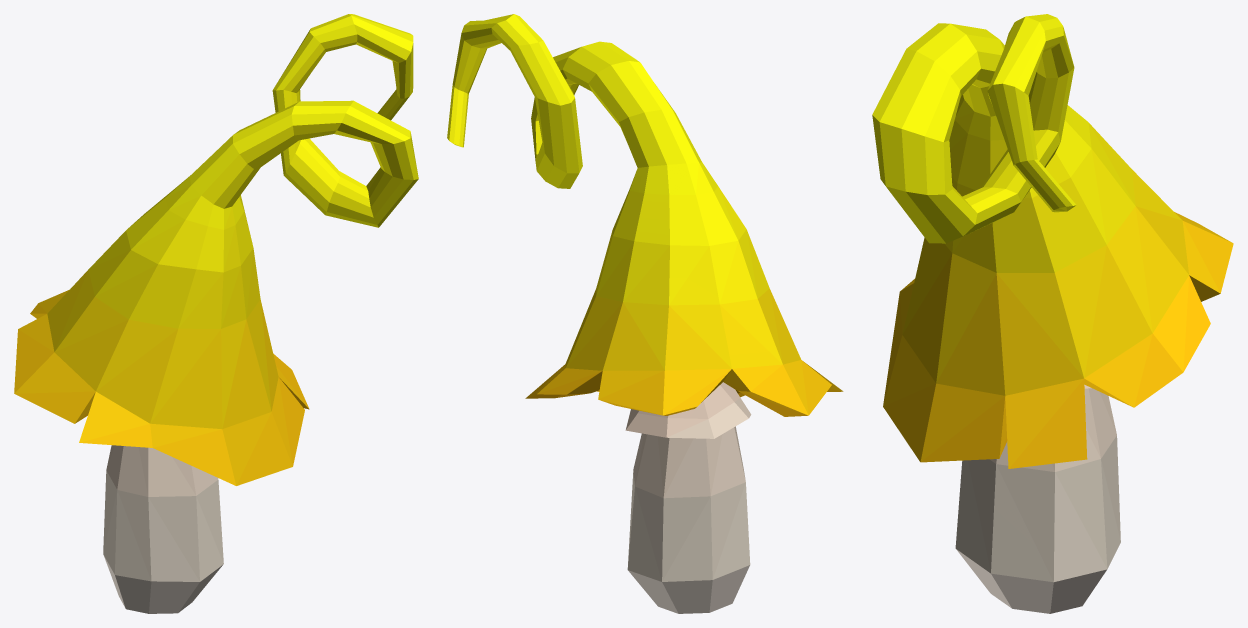
File: mushroom_fantasy_orange_10.glb
The picture shows the model from 3 angles, left to right: view 1: azimuth 30°, elevation 25°; view 2: azimuth 150°, elevation 25°; view 3: azimuth 270°, elevation 25°; orthographic projection. The views are drawn at different scales.
Visible parts, largest first — view 1: PP_Mushroom_Fantasy_Orange_10.002; view 2: PP_Mushroom_Fantasy_Orange_10.002; view 3: PP_Mushroom_Fantasy_Orange_10.002.
Boxes of the visible parts, x1,y1,x2,y2 form: PP_Mushroom_Fantasy_Orange_10.002: (14,14,418,613); PP_Mushroom_Fantasy_Orange_10.002: (447,14,843,613); PP_Mushroom_Fantasy_Orange_10.002: (872,14,1233,613).
Size of the model in its own units: 0.5774 by 0.7923 by 0.3734.
